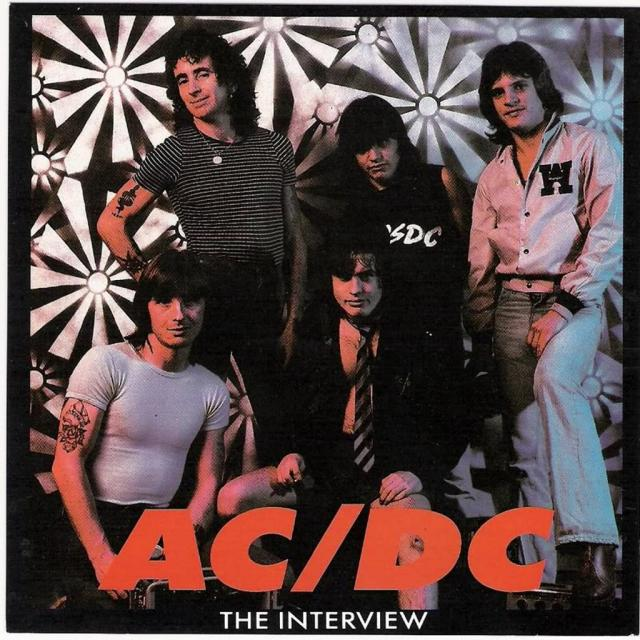nomask: (152, 277, 202, 345), (332, 248, 380, 316), (171, 51, 220, 115), (489, 62, 535, 128), (353, 119, 398, 180)
